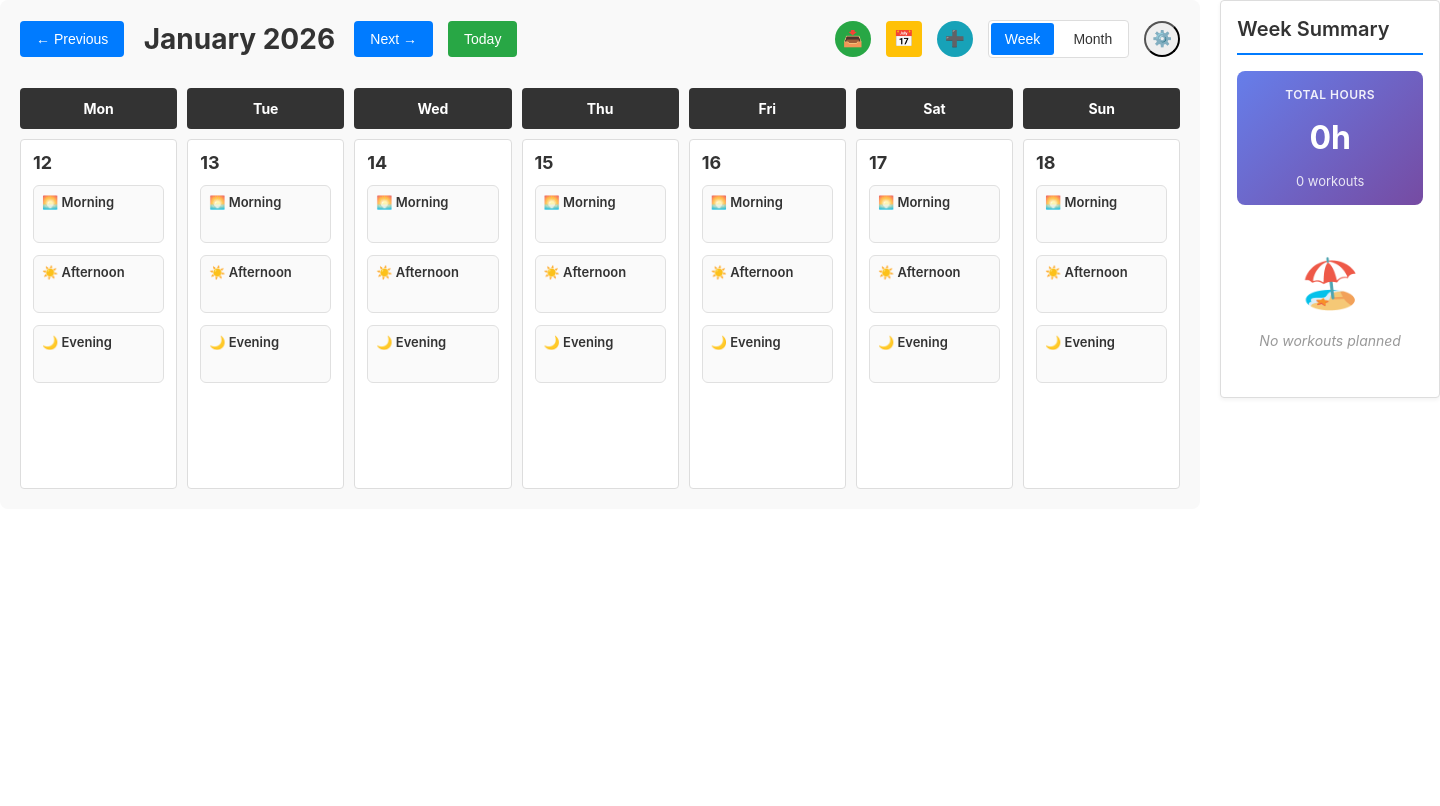
Test: Calendar Component › should navigate to next month
Switch to month view first
Click the button "Month" at {"x": 1093, "y": 39}, box x1=1059 y1=23 x2=1126 y2=55
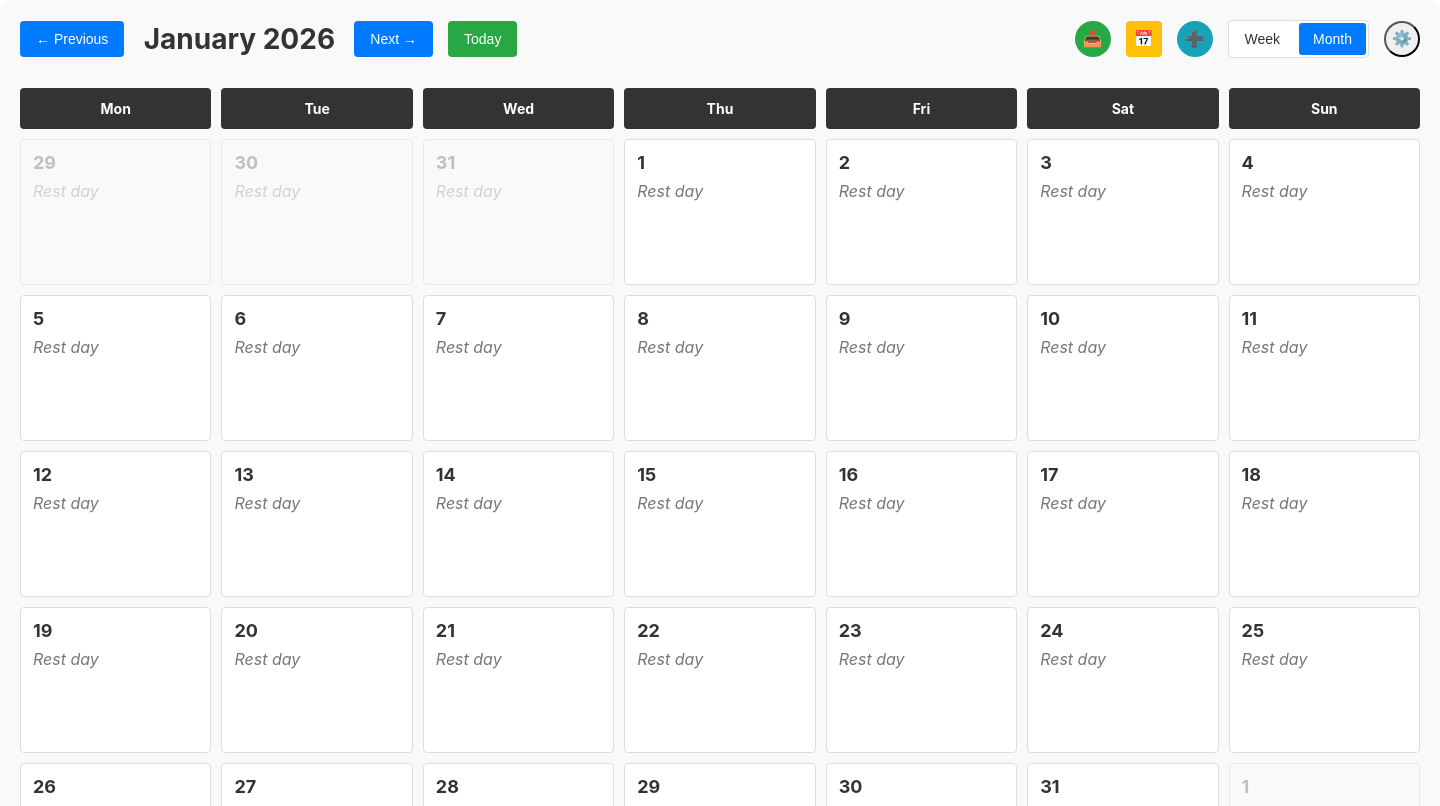
Click the button "Next →" at {"x": 394, "y": 39}, box x1=354 y1=21 x2=433 y2=57
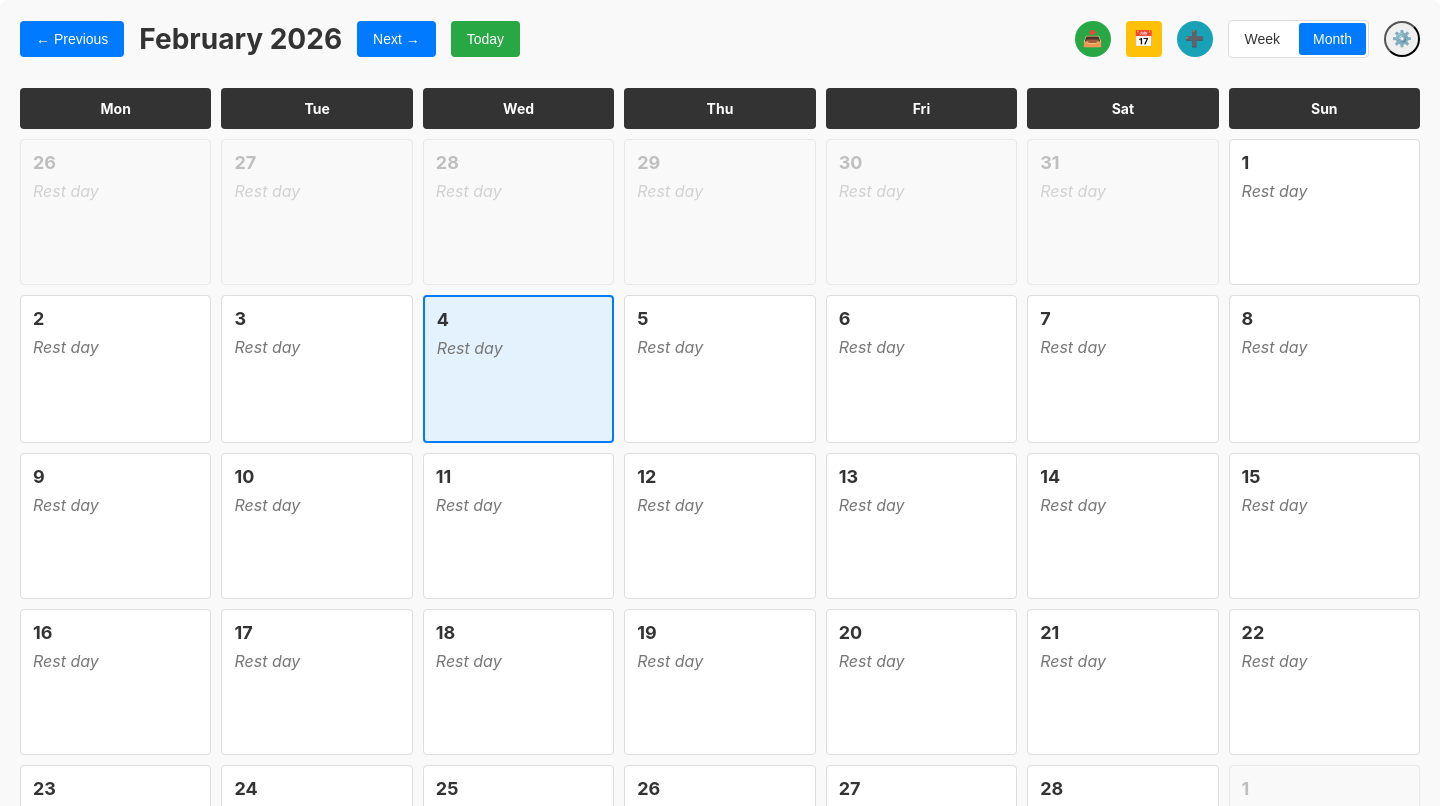
Now the heading "February 2026" is shown, box x1=139 y1=22 x2=342 y2=56
